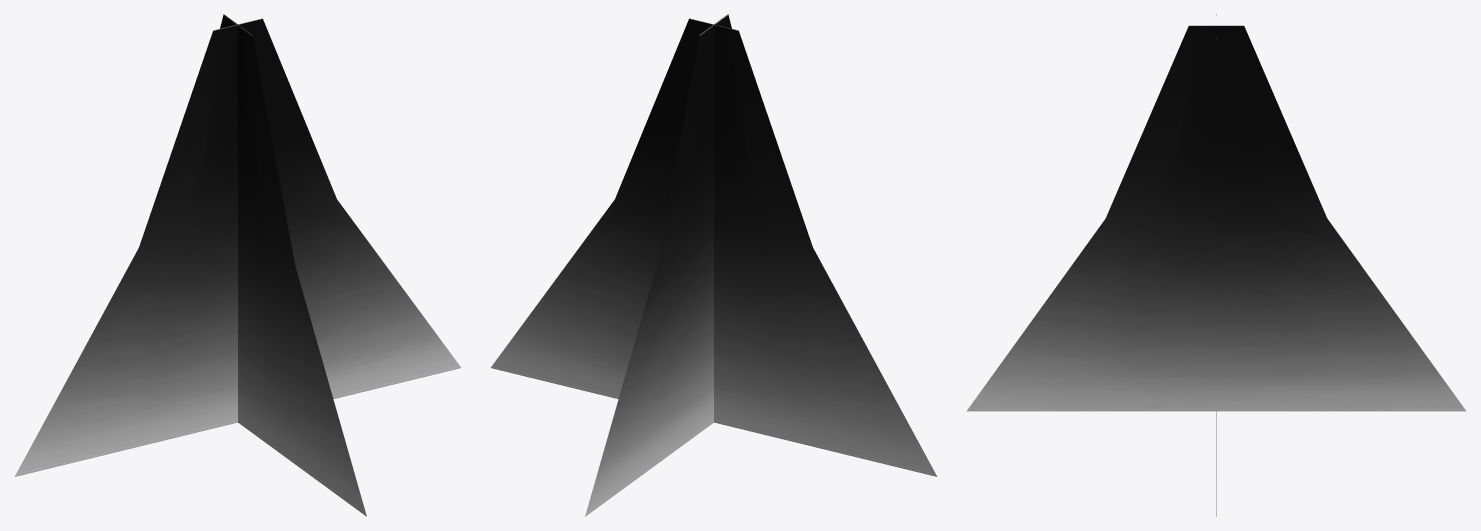
The model's file is Plane_Shizi01.FBX.
The picture shows the model from 3 angles, left to right: view 1: azimuth 30°, elevation 25°; view 2: azimuth 150°, elevation 25°; view 3: azimuth 270°, elevation 25°; orthographic projection. The views are drawn at different scales.
Parts seen in each view (by area): view 1: Plane002; view 2: Plane002; view 3: Plane002.
Boxes of the visible parts, <box> form: Plane002: <box>14,14,461,516</box>; Plane002: <box>490,14,937,516</box>; Plane002: <box>967,14,1465,516</box>.
Size of the model in its own units: 118 by 100 by 118.
1 material, 1 textured.
